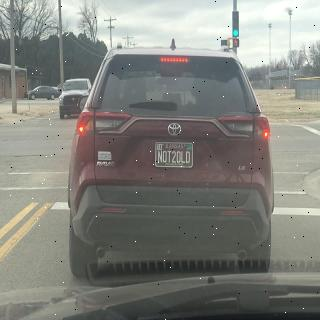license: (156, 143, 194, 168)
